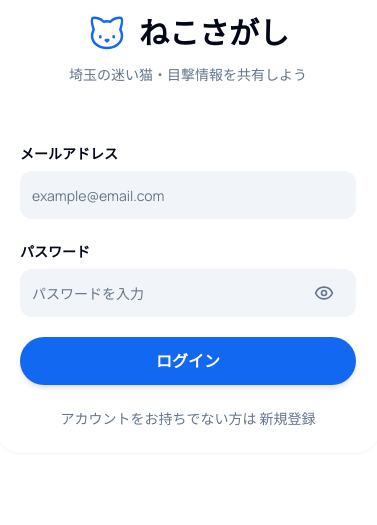
it: LoginWithAuth › 認証エラー時、フォーム上部にエラーバナーが表示されること
Step 1. Type "test@example.com" into the field labelled "メールアドレス" → (188, 195), box [20,171,356,219]
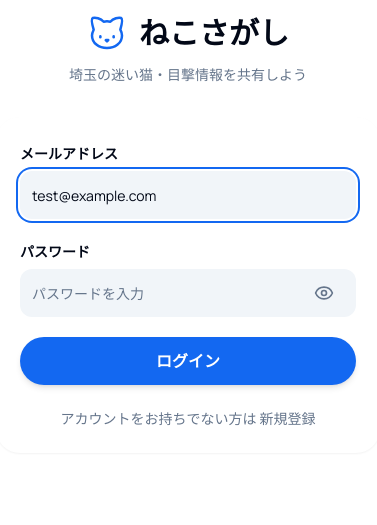
Step 2. Type "wrongpass" into the password field labelled "パスワード" → (188, 293), box [20,269,356,317]
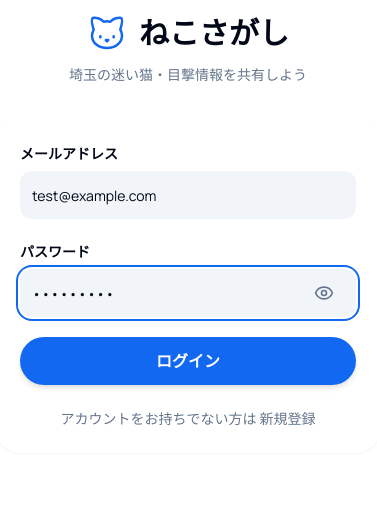
Step 3. Click the button "ログイン" → (188, 361), box [20,337,356,385]
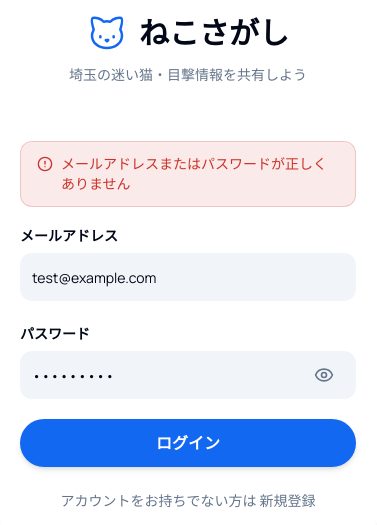
Check: the text "メールアドレスまたはパスワードが正しくありません" is shown, box [61,154,339,194]
